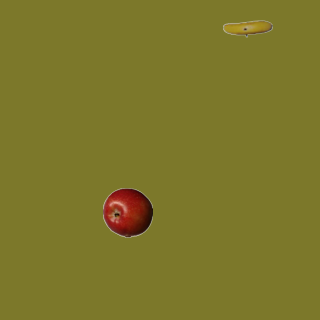Apple Braeburn: (102, 187, 152, 237)
Banana: (222, 3, 272, 53)
